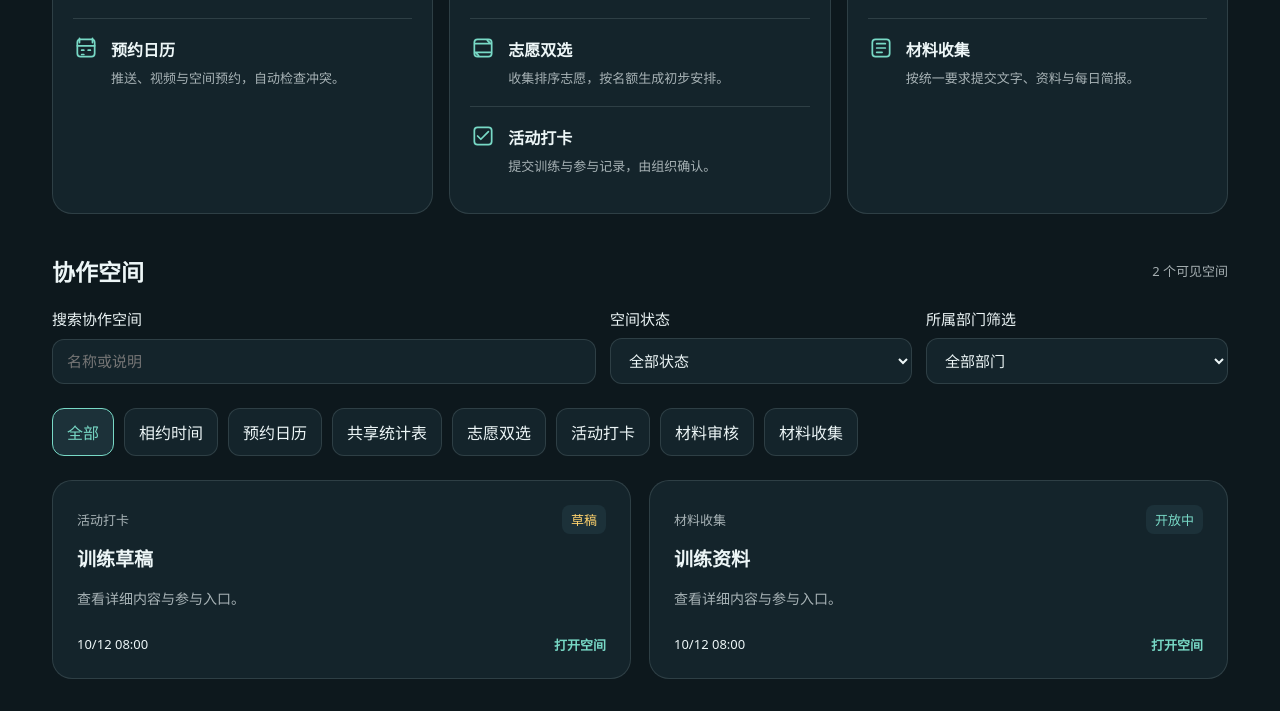
it: groups all seven tools and searches only the authorized list with a status filter
(page scrolled)
Type "训练" into the search field labelled "搜索协作空间" at (324, 361), box [52, 339, 596, 384]
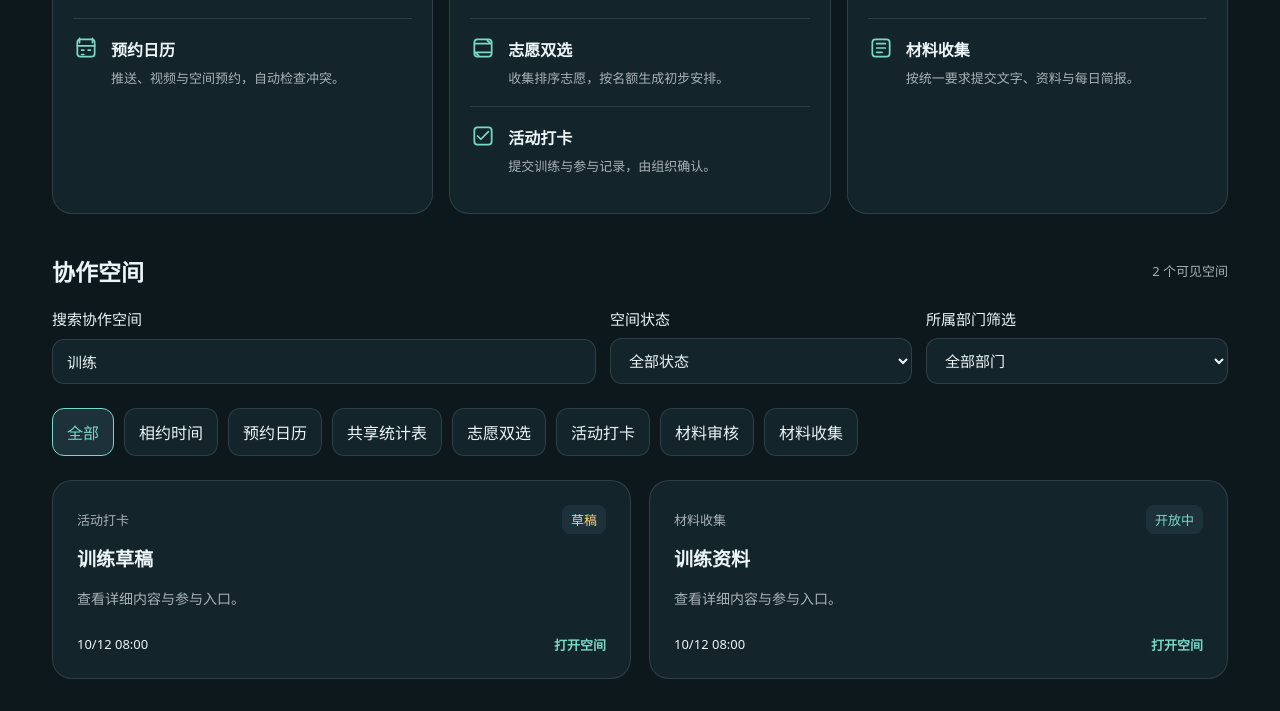
Select "开放中" in the dropdown labelled "空间状态" at (761, 361), box [610, 338, 912, 384]
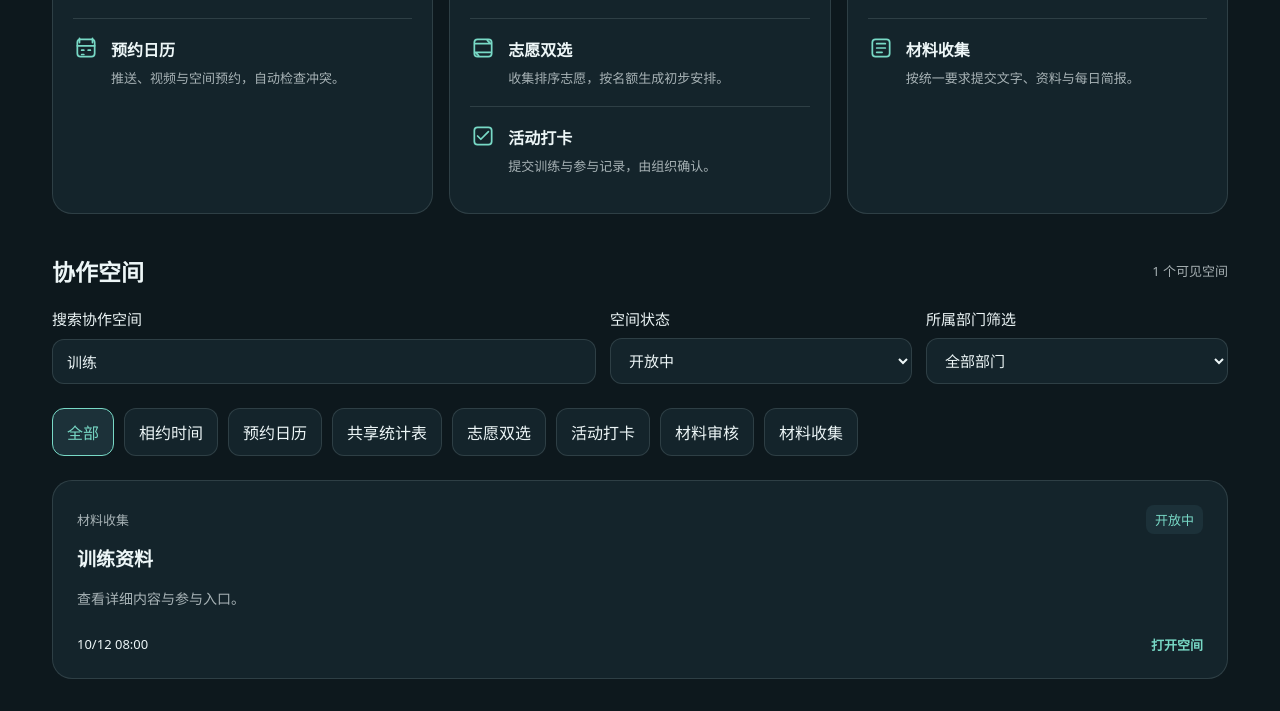
Expected: the link "材料收集 开放中 训练资料 查看详细内容与参与入口。 10/12 08:00 打开空间" is shown, [52, 480, 1228, 679]
Expected: the link "训练草稿" is gone
